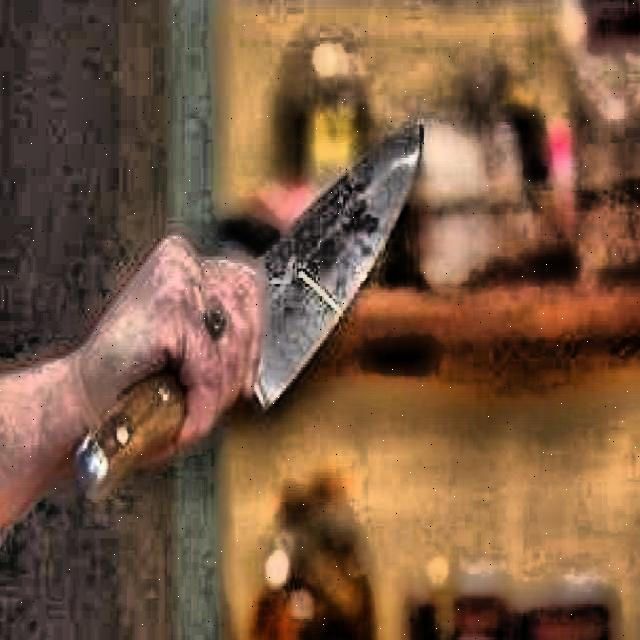knife: (75, 126, 423, 496)
